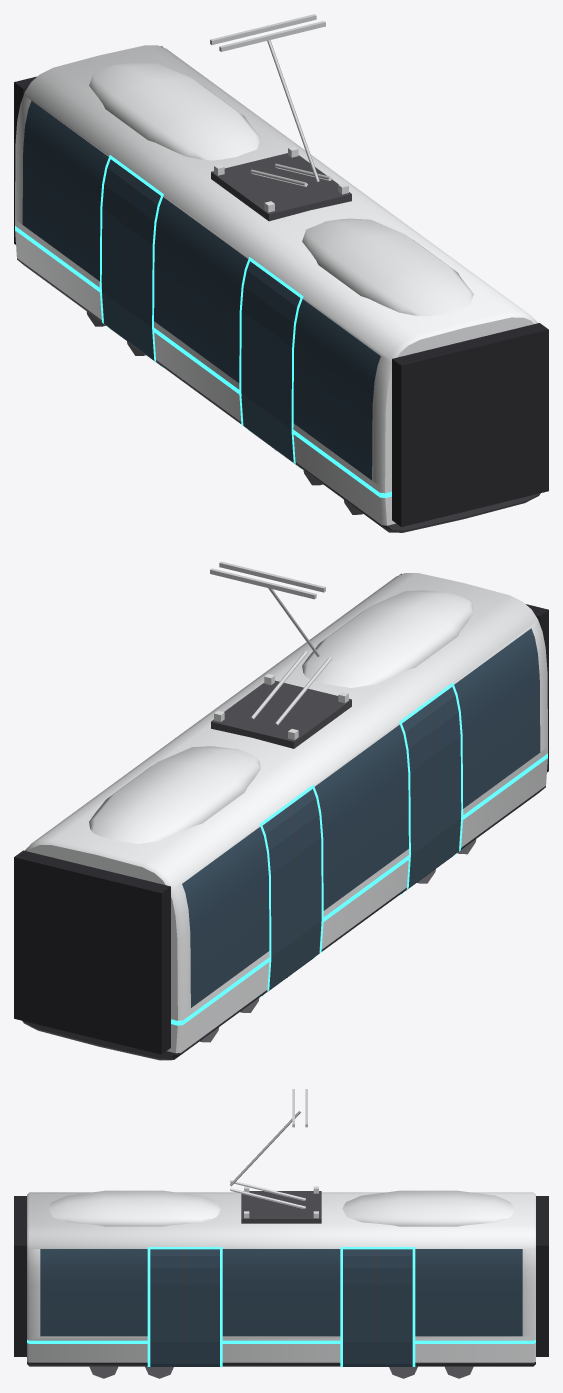
File: middle_1.fbx
3 views of the same model, one above another, from view 1: azimuth 30°, elevation 25°; view 2: azimuth 150°, elevation 25°; view 3: azimuth 270°, elevation 25° (orthographic). The views are drawn at different scales.
Visible parts, largest first — view 1: 14_middle_1; view 2: 14_middle_1; view 3: 14_middle_1.
Boxes of the visible parts, x1,y1,x2,y2 form: 14_middle_1: [14, 14, 548, 532]; 14_middle_1: [14, 561, 548, 1060]; 14_middle_1: [14, 1089, 548, 1378].
Size of the model in its own units: 2.53 by 5.21 by 10.
